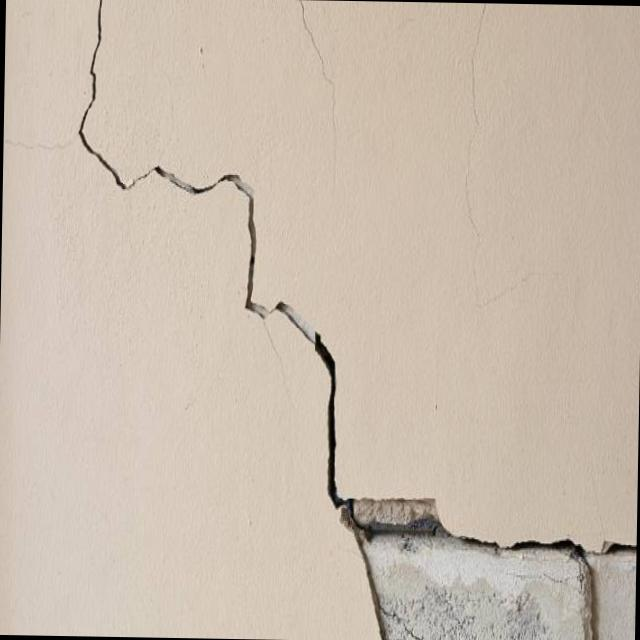crack: (67, 0, 395, 639), (343, 472, 638, 572), (298, 0, 339, 190), (465, 2, 485, 308), (4, 130, 77, 154)
